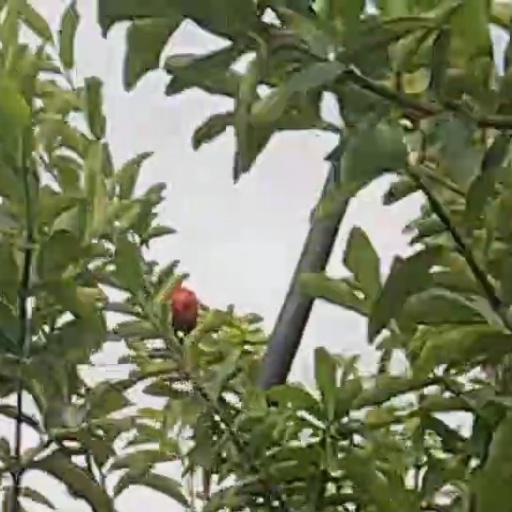acerola: (171, 286, 198, 329)
